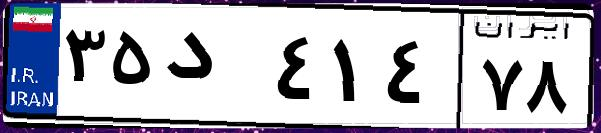1: (330, 28, 385, 110)
3: (57, 26, 110, 100)
4: (270, 28, 330, 110), (385, 28, 445, 110)
5: (110, 28, 158, 98)
7: (475, 38, 525, 113)
8: (525, 38, 570, 115)
د: (158, 20, 270, 120)
